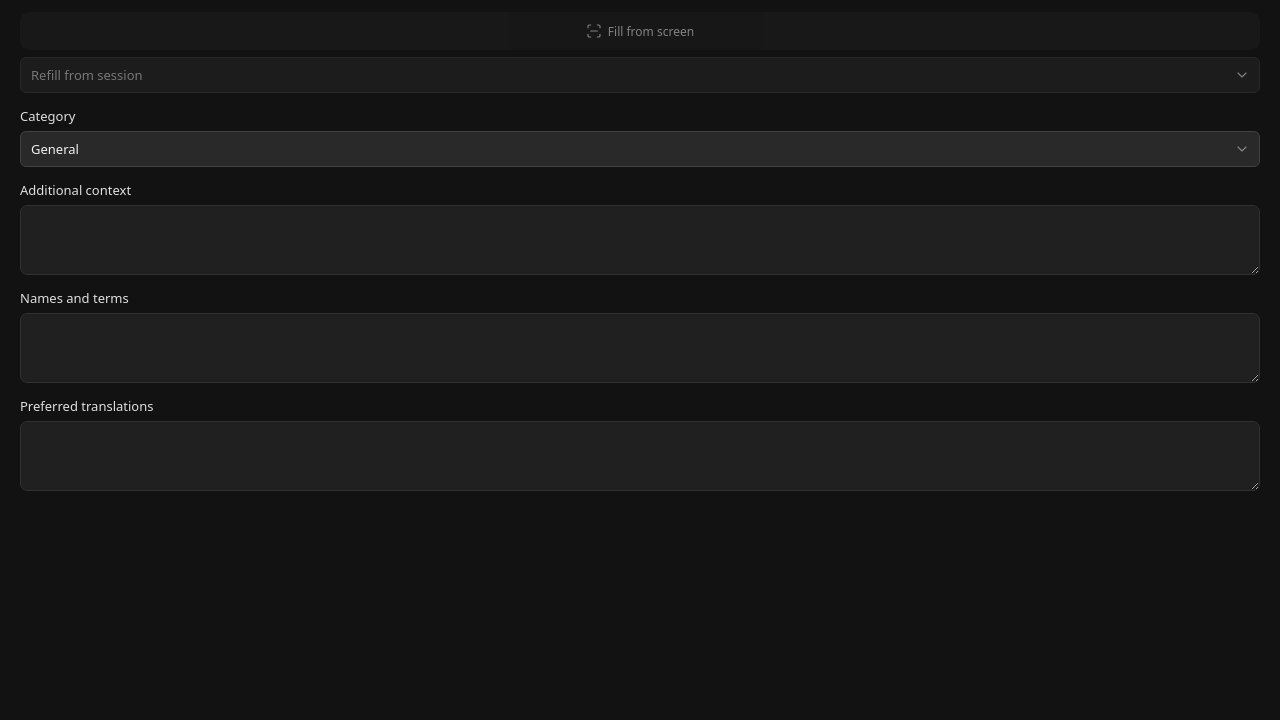
Scenario: reveals and retains the custom category when switching categories
The width and height of the screenshot is (1280, 720).
Expected: the field labelled "Custom category" is not shown
Select "Custom" in the dropdown named "Context category": (640,149) [20,131,1260,167]
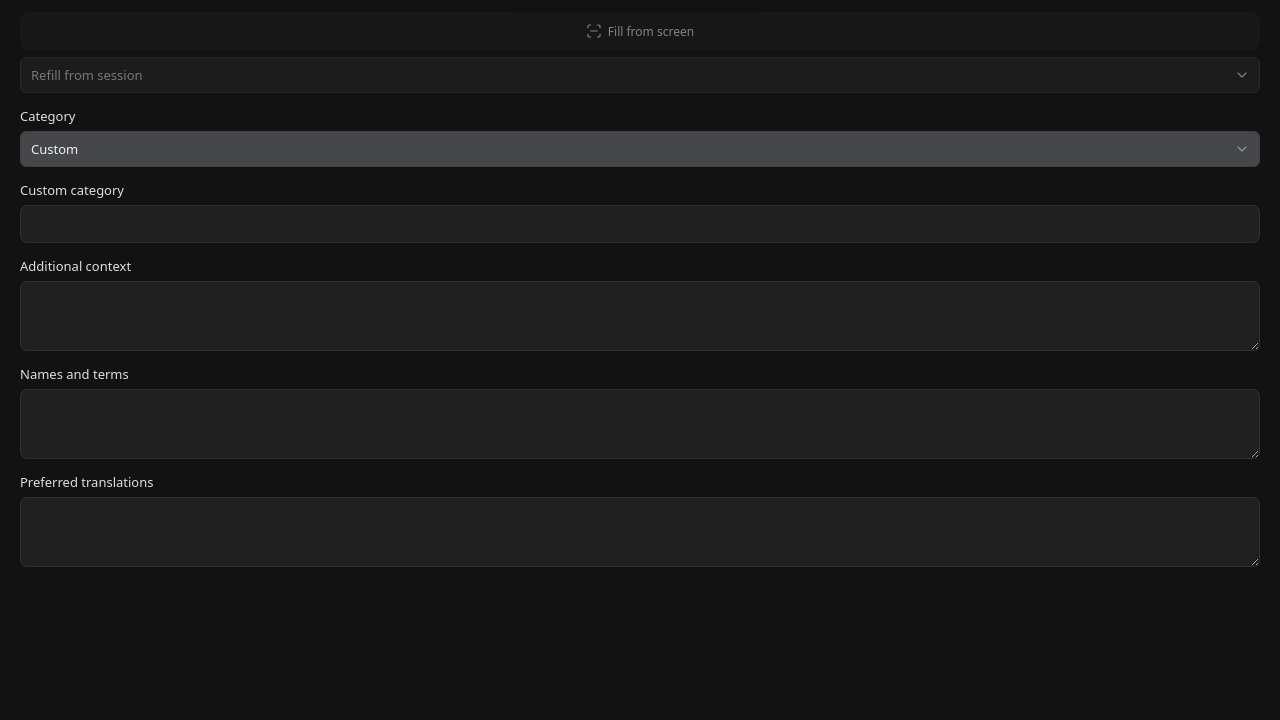
In the field labelled "Custom category": (640,224) [20,205,1260,243], type "Game design"
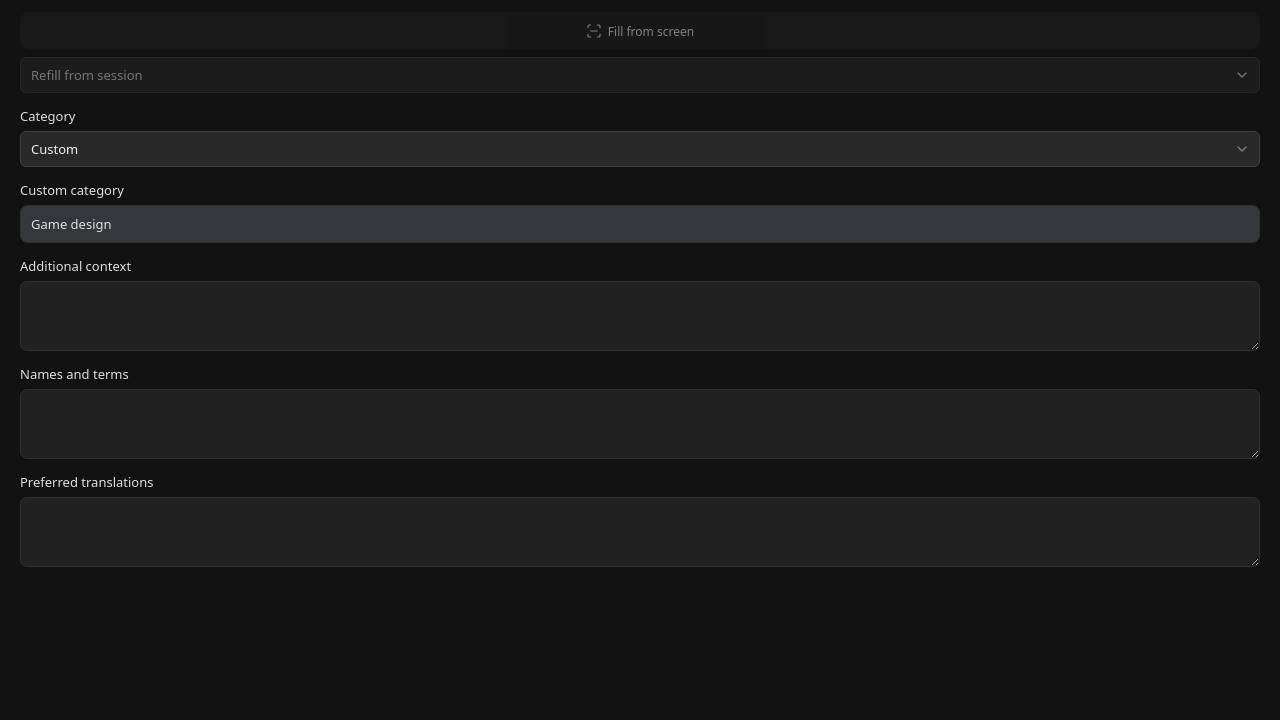
Select "Science" in the dropdown named "Context category": (640,149) [20,131,1260,167]
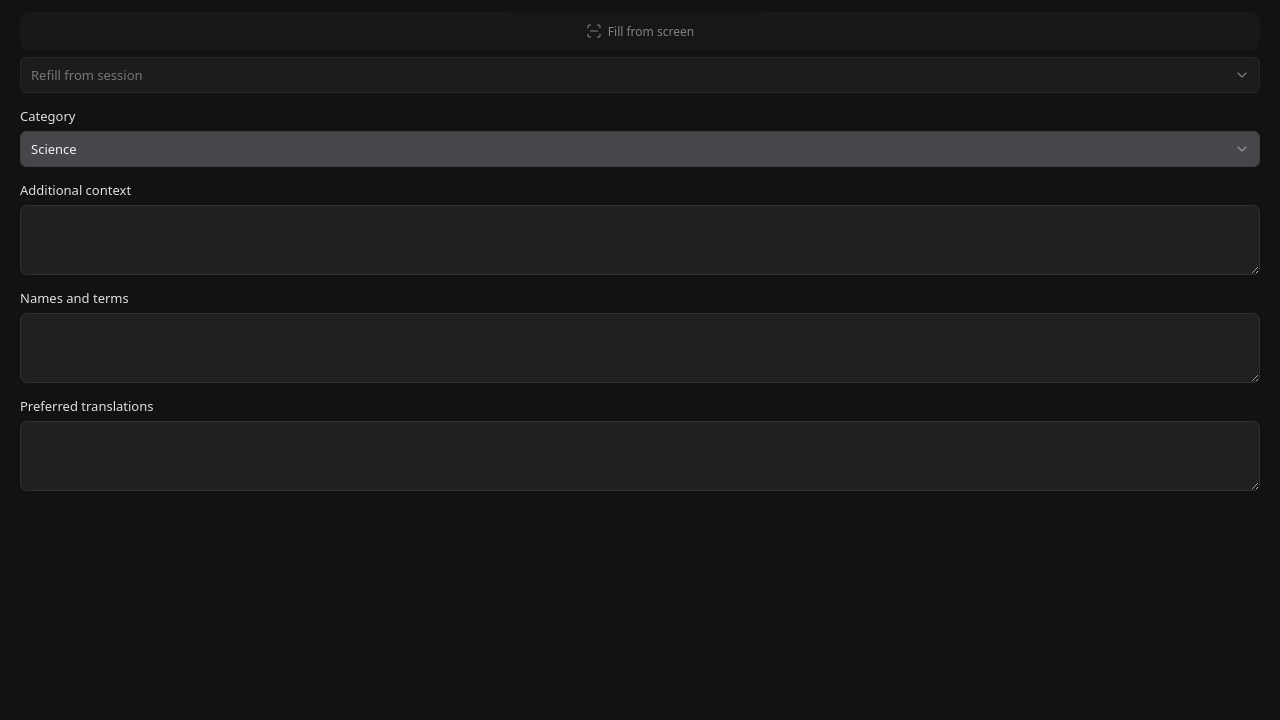
Now the label labelled "Custom category" is gone
Select "Custom" in the dropdown named "Context category": (640,149) [20,131,1260,167]
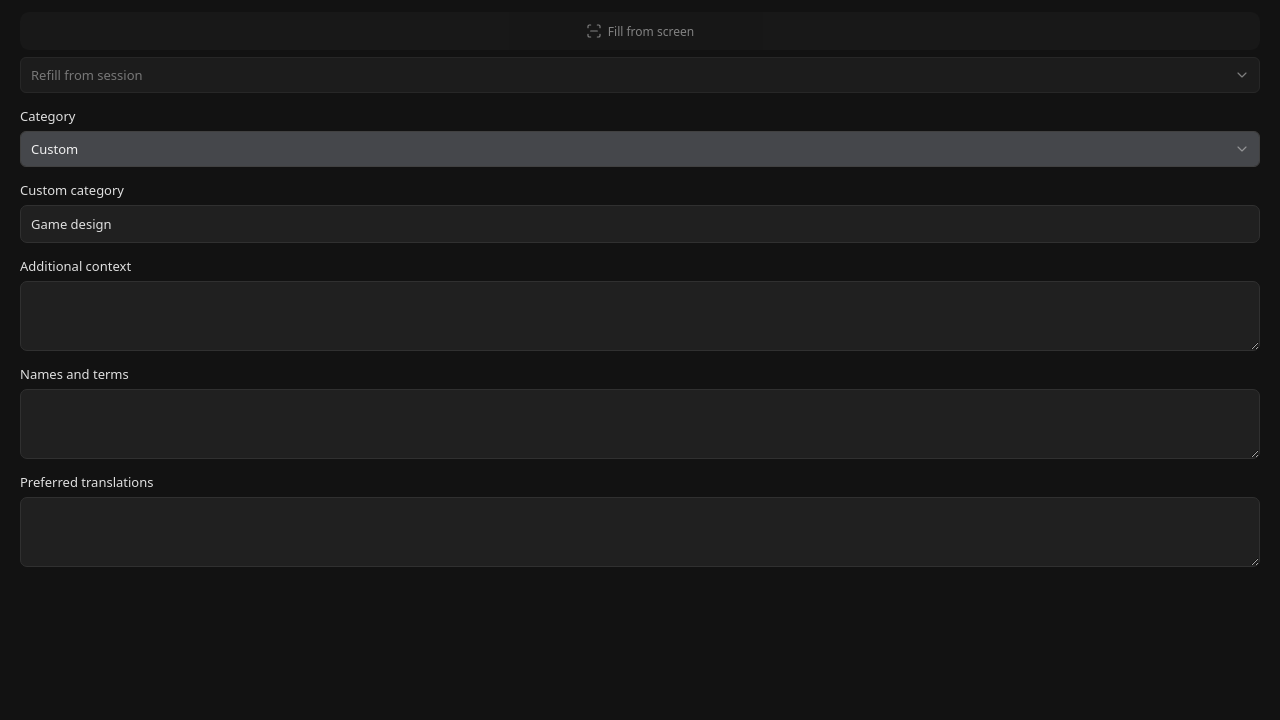
Now the field labelled "Custom category" holds "Game design", box [20,205,1260,243]
